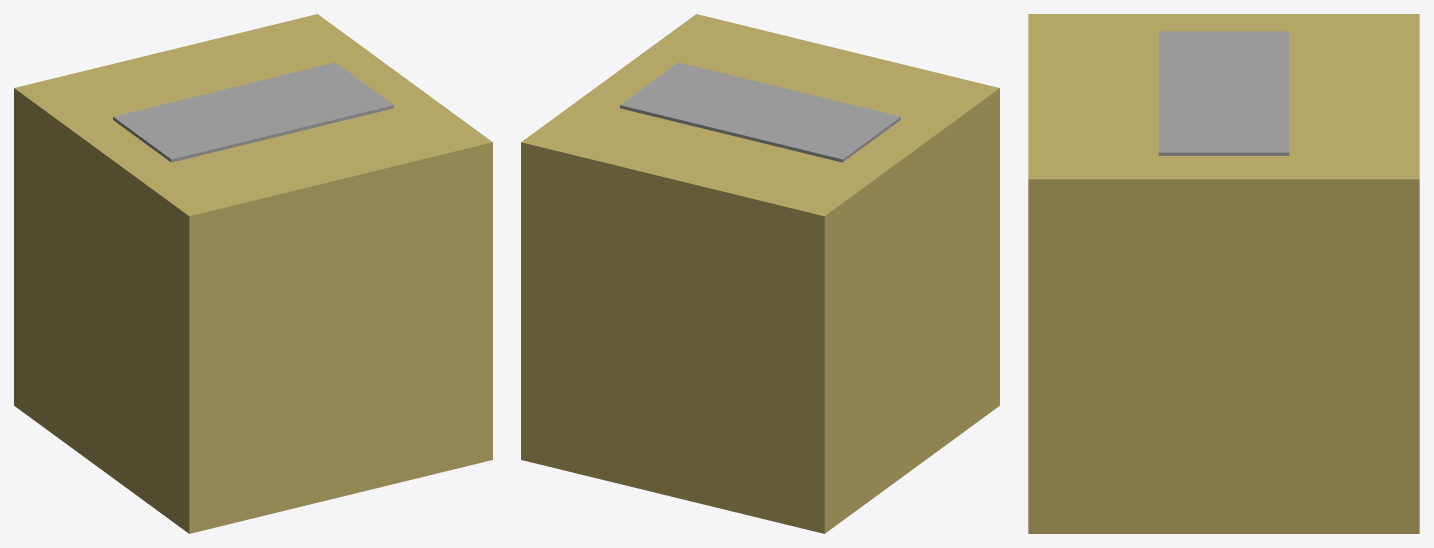
Rendered from celio_gold_box.glb.
3 renders of one model, left to right at view 1: azimuth 30°, elevation 25°; view 2: azimuth 150°, elevation 25°; view 3: azimuth 270°, elevation 25°, orthographic. The views are drawn at different scales.
Parts seen in each view (by area): view 1: world; view 2: world; view 3: world.
Boxes of the visible parts, left/top/right/bottom form: world: left=14, top=14, right=492, bottom=533; world: left=521, top=14, right=999, bottom=533; world: left=1028, top=14, right=1419, bottom=533.
Bounding box in the file's own units: 0.3 × 0.304 × 0.3.
